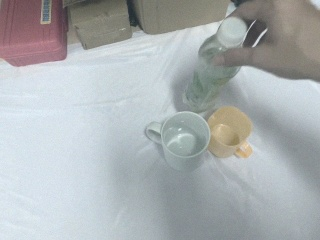bottle: (181, 1, 267, 112)
box: (69, 1, 132, 49)
cup: (144, 111, 210, 173), (205, 105, 254, 159)
